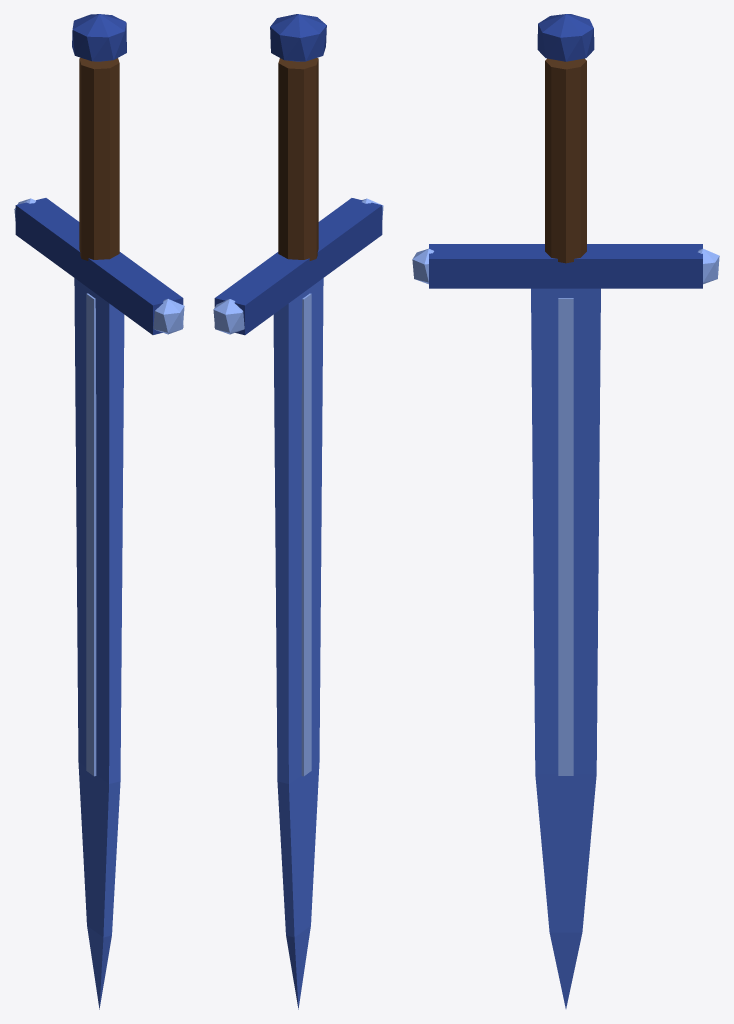
The model's file is held_mithril_longsword.glb.
3 views of the same model, side by side, from view 1: azimuth 30°, elevation 25°; view 2: azimuth 150°, elevation 25°; view 3: azimuth 270°, elevation 25° (orthographic).
Parts seen in each view (by area): view 1: held_mithril_longsword; view 2: held_mithril_longsword; view 3: held_mithril_longsword.
Part boxes in pixels (x1=…): held_mithril_longsword: x1=14, y1=14, x2=184, y2=1009; held_mithril_longsword: x1=213, y1=14, x2=383, y2=1009; held_mithril_longsword: x1=412, y1=14, x2=719, y2=1008.
Size of the model in its own units: 0.052 by 1 by 0.2801.
